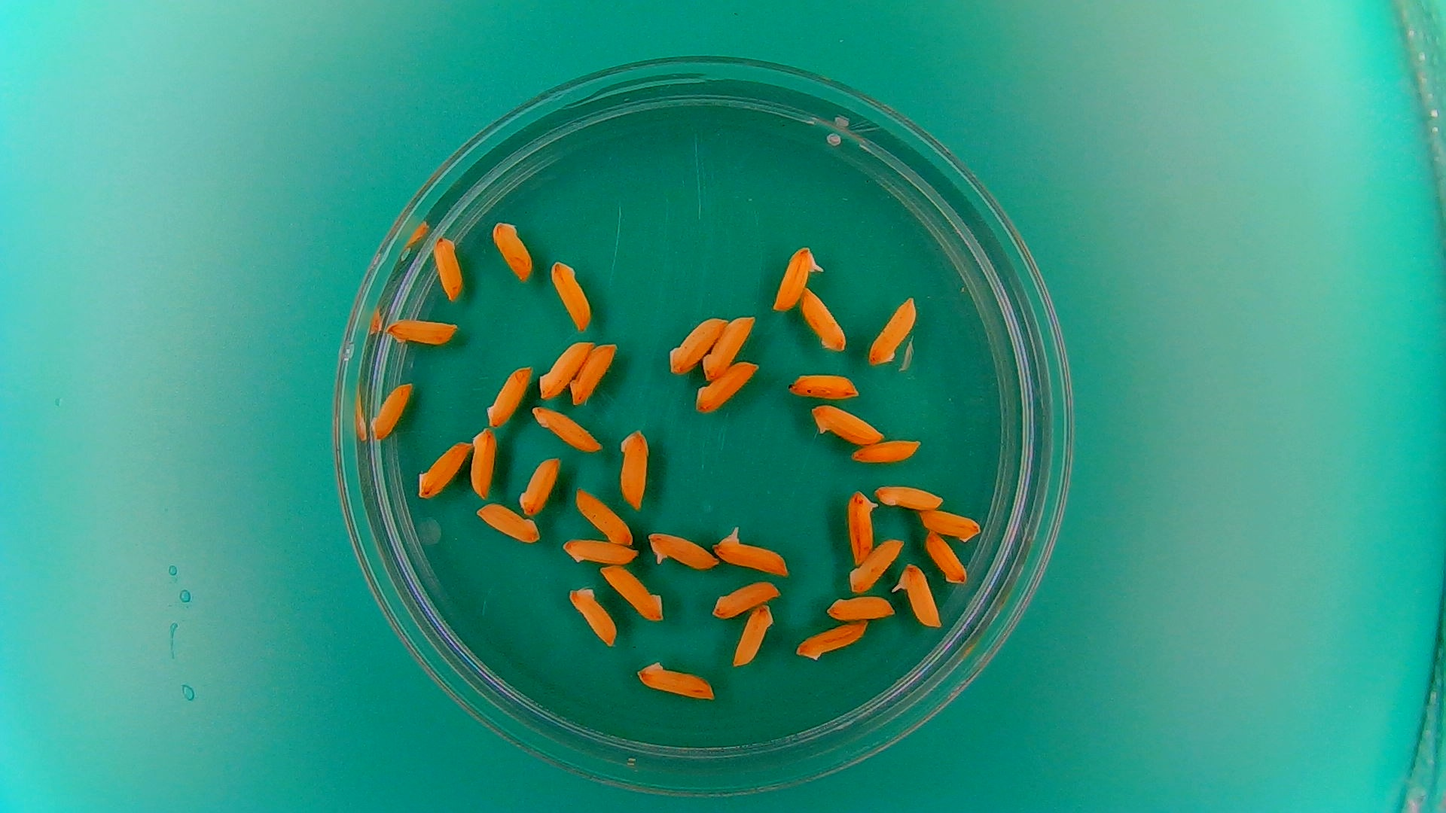no: (596, 562, 666, 623), (866, 293, 920, 367), (572, 484, 636, 545), (700, 312, 756, 379), (633, 656, 716, 701), (536, 337, 595, 400), (531, 403, 603, 454), (696, 358, 759, 416), (414, 437, 471, 501), (798, 283, 848, 354), (848, 533, 905, 595), (566, 581, 619, 647), (792, 619, 871, 663), (809, 400, 886, 445), (548, 257, 593, 333), (669, 316, 725, 376), (569, 339, 618, 405), (484, 361, 532, 428), (730, 601, 775, 669), (709, 578, 781, 619), (516, 452, 562, 516), (489, 217, 533, 283), (474, 501, 541, 544), (618, 424, 651, 510), (369, 379, 413, 441), (923, 528, 969, 586), (786, 368, 862, 400), (431, 232, 465, 303), (385, 314, 460, 346), (560, 537, 639, 567), (468, 424, 498, 500), (823, 592, 897, 622), (872, 480, 946, 510), (918, 508, 979, 544), (850, 436, 924, 464)
yes: (709, 525, 792, 577), (769, 241, 824, 314), (892, 559, 942, 630), (645, 528, 721, 571), (847, 484, 879, 565)
